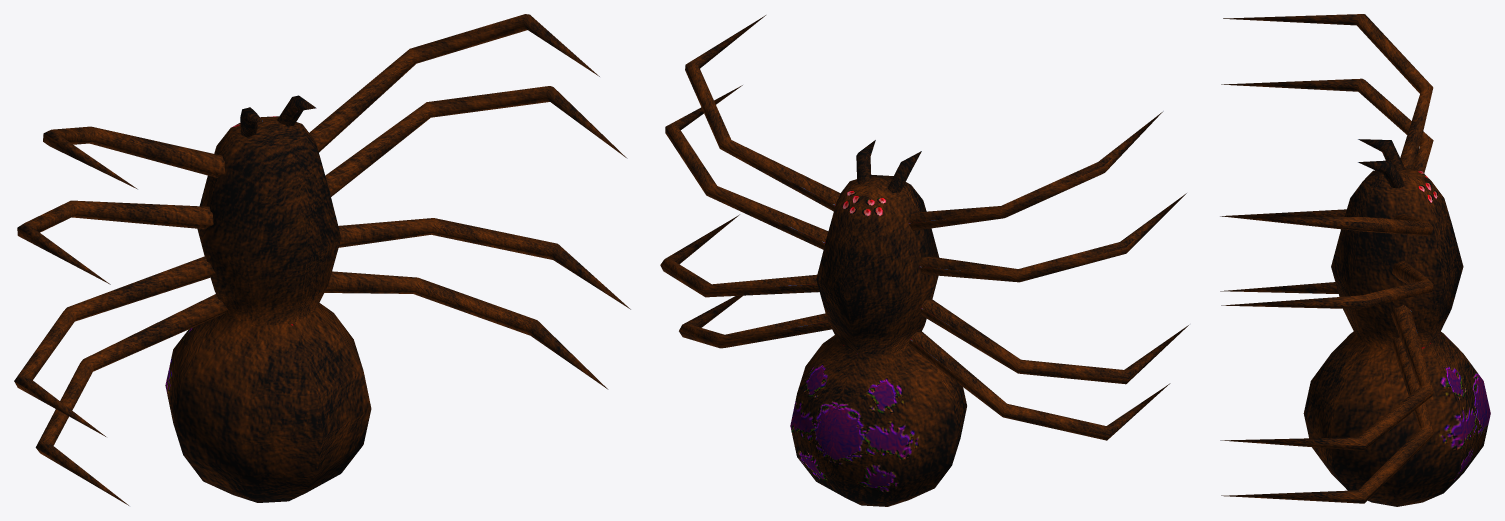
File: spider.obj
3 views of the same model, side by side, from view 1: azimuth 30°, elevation 25°; view 2: azimuth 150°, elevation 25°; view 3: azimuth 270°, elevation 25° (orthographic). The views are drawn at different scales.
Visible parts, largest first — view 1: Sphere; view 2: Sphere; view 3: Sphere.
Part boxes in pixels (bbox=[...]): Sphere: bbox=[14, 14, 630, 505]; Sphere: bbox=[660, 15, 1188, 506]; Sphere: bbox=[1220, 14, 1490, 506].
Bounding box in the file's own units: 1.24 × 0.9514 × 0.6119.
Materials: 1 (1 with a texture image).
